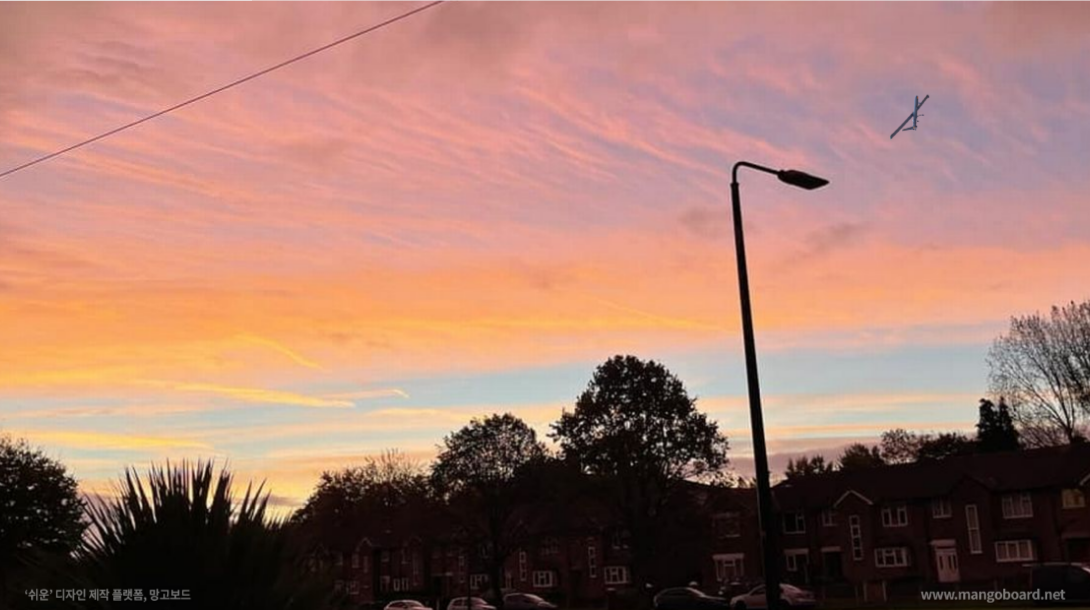military drone: (889, 93, 930, 138)
